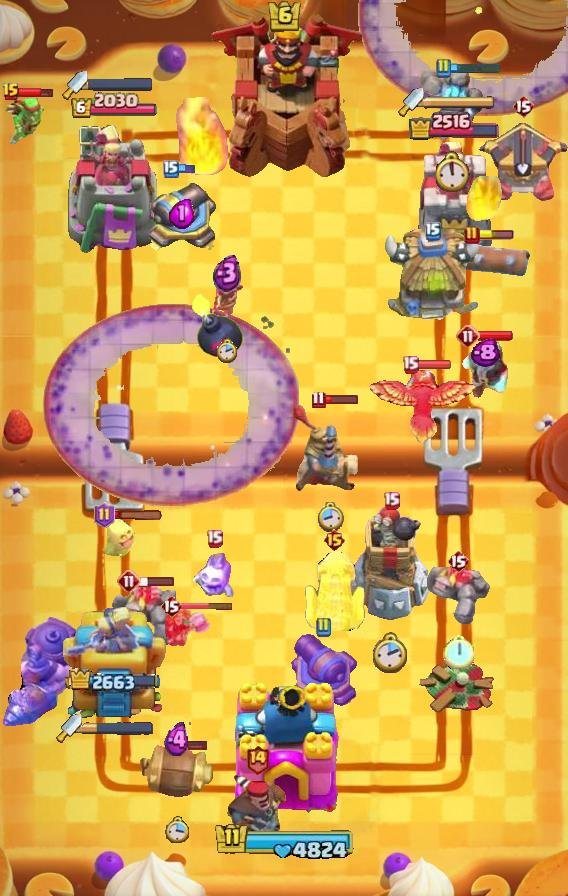baby-dragon: (190, 291, 244, 359)
bar: (60, 607, 168, 731), (67, 122, 161, 256), (412, 140, 494, 256)
bat-evolution: (103, 513, 137, 557)
cannon: (210, 273, 244, 319)
clock: (210, 821, 358, 863)
electro-spirit: (213, 254, 242, 292), (164, 722, 191, 758), (470, 338, 500, 368), (169, 197, 195, 229)
elixir: (373, 633, 409, 676), (437, 151, 472, 192), (443, 635, 473, 670), (317, 503, 343, 533), (165, 816, 190, 843), (217, 338, 238, 364)
emote: (449, 62, 502, 74), (112, 511, 164, 522), (180, 601, 234, 610), (18, 86, 54, 99), (478, 330, 514, 342), (416, 358, 452, 370), (139, 575, 175, 587), (173, 739, 207, 751), (323, 395, 359, 406), (478, 230, 514, 240), (177, 162, 196, 174)
giant-snowball: (2, 93, 46, 147)
goblin-brawler: (303, 547, 365, 631)
golden-knight: (367, 368, 479, 448)
hog-rider: (164, 602, 212, 648)
king-tower: (205, 11, 363, 181), (222, 680, 346, 826)
king-tower-bar: (424, 95, 496, 109), (82, 721, 154, 735), (88, 77, 152, 91)
lava-pup: (476, 121, 568, 203)
minion: (431, 240, 531, 276)
mirror: (193, 550, 235, 600)
mortar: (459, 334, 511, 402)
phoenix-small: (226, 772, 288, 844)
prince: (382, 229, 484, 325)
ram-rider: (290, 404, 370, 494)
rocket: (43, 303, 299, 507), (358, 0, 568, 116)
royal-recruit: (286, 628, 360, 714), (146, 172, 218, 256)
selected: (408, 111, 501, 141), (70, 92, 158, 120), (69, 669, 159, 696)
text: (245, 744, 270, 775), (456, 324, 480, 348), (117, 569, 141, 593), (322, 528, 345, 552), (94, 502, 115, 528), (512, 94, 534, 118), (447, 549, 469, 573), (160, 594, 182, 618), (2, 82, 20, 102), (383, 491, 401, 510), (401, 355, 419, 373), (206, 528, 223, 547), (435, 58, 451, 78), (464, 225, 480, 245), (315, 617, 331, 637), (163, 160, 179, 178), (425, 222, 441, 240), (311, 391, 325, 410)
the-log: (137, 745, 217, 799)
valkyrie: (176, 94, 234, 180), (465, 176, 505, 224)
valkyrie-evolution: (416, 65, 490, 147), (111, 584, 177, 646), (426, 566, 490, 626)
wizard: (0, 615, 82, 729)
zappy: (349, 503, 433, 625)
